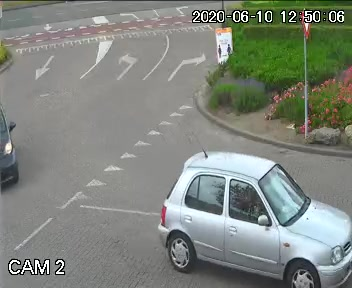car: (156, 149, 352, 288)
